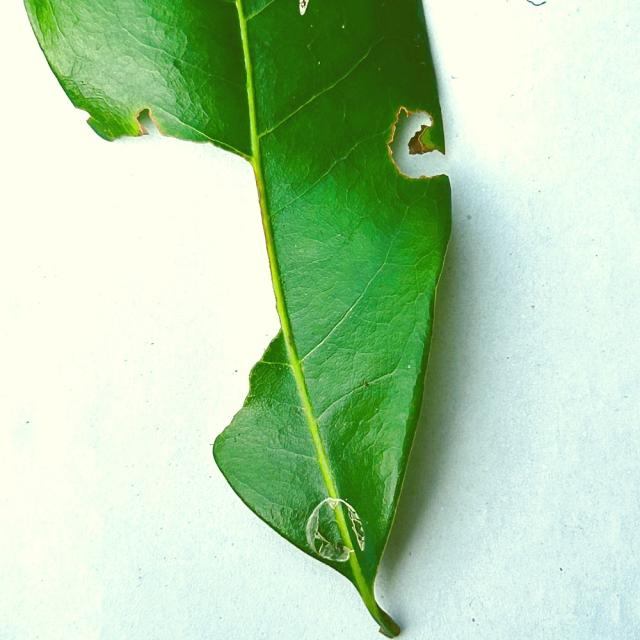Deficiency Leaf: (97, 135, 282, 435), (383, 106, 451, 181)
Lychee: (22, 0, 452, 639)
